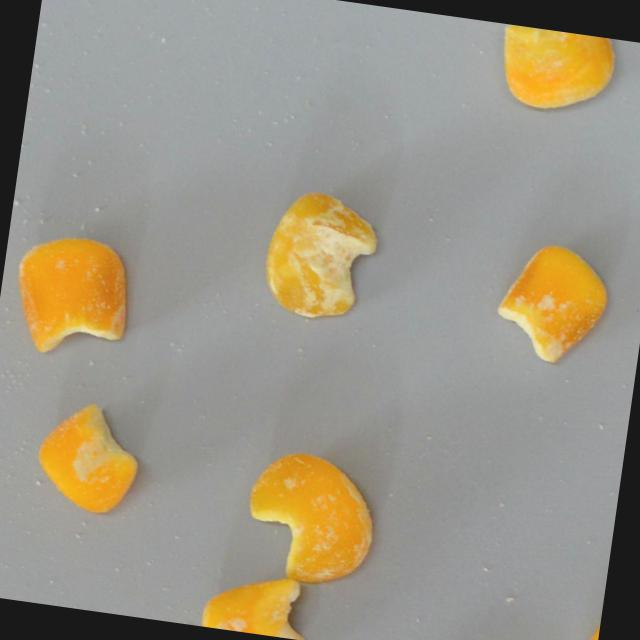pelicula: (238, 445, 384, 592), (0, 226, 136, 362), (258, 183, 384, 323), (490, 234, 615, 368), (31, 398, 145, 517), (493, 23, 621, 117), (199, 564, 317, 640), (583, 591, 605, 640)
